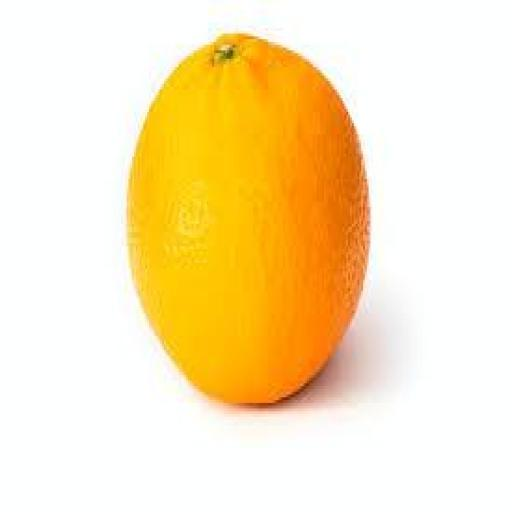orange: (129, 34, 368, 402)
